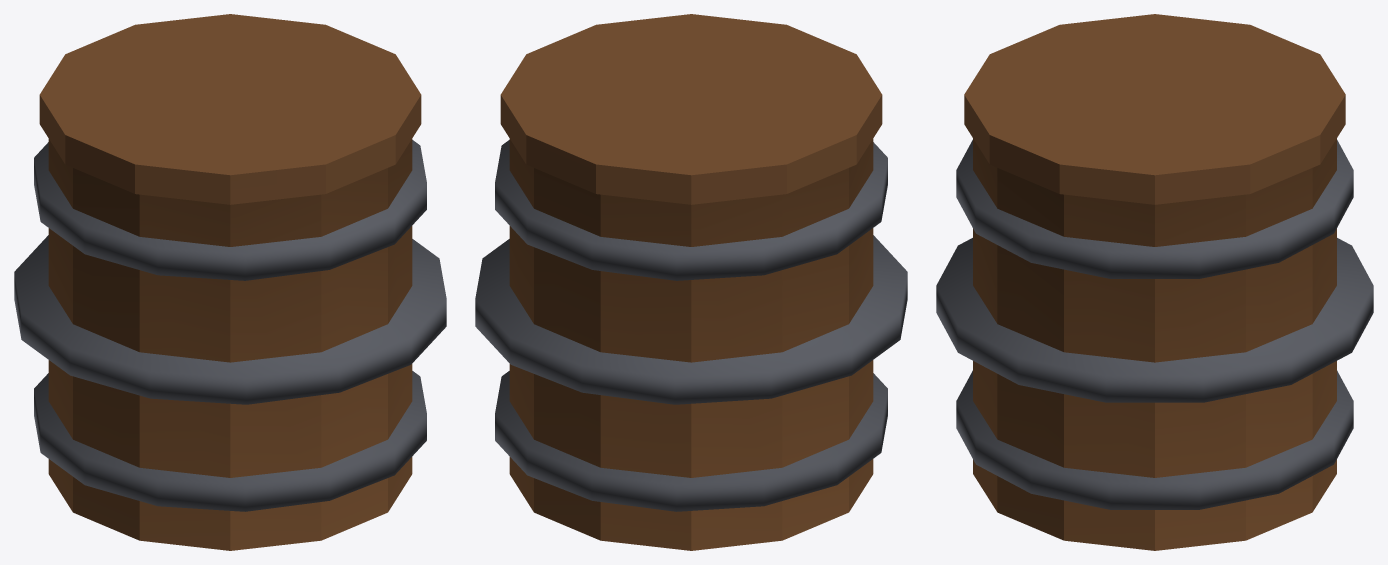
File: barrel.glb
3 renders of one model, left to right at view 1: azimuth 30°, elevation 25°; view 2: azimuth 150°, elevation 25°; view 3: azimuth 270°, elevation 25°, orthographic.
Visible parts, largest first — view 1: barrel; view 2: barrel; view 3: barrel.
Part boxes in pixels (x1,y1,x2,y2): barrel: [14, 14, 446, 550]; barrel: [475, 14, 907, 550]; barrel: [936, 14, 1373, 550].
Size of the model in its own units: 0.5745 by 0.564 by 0.5893.
